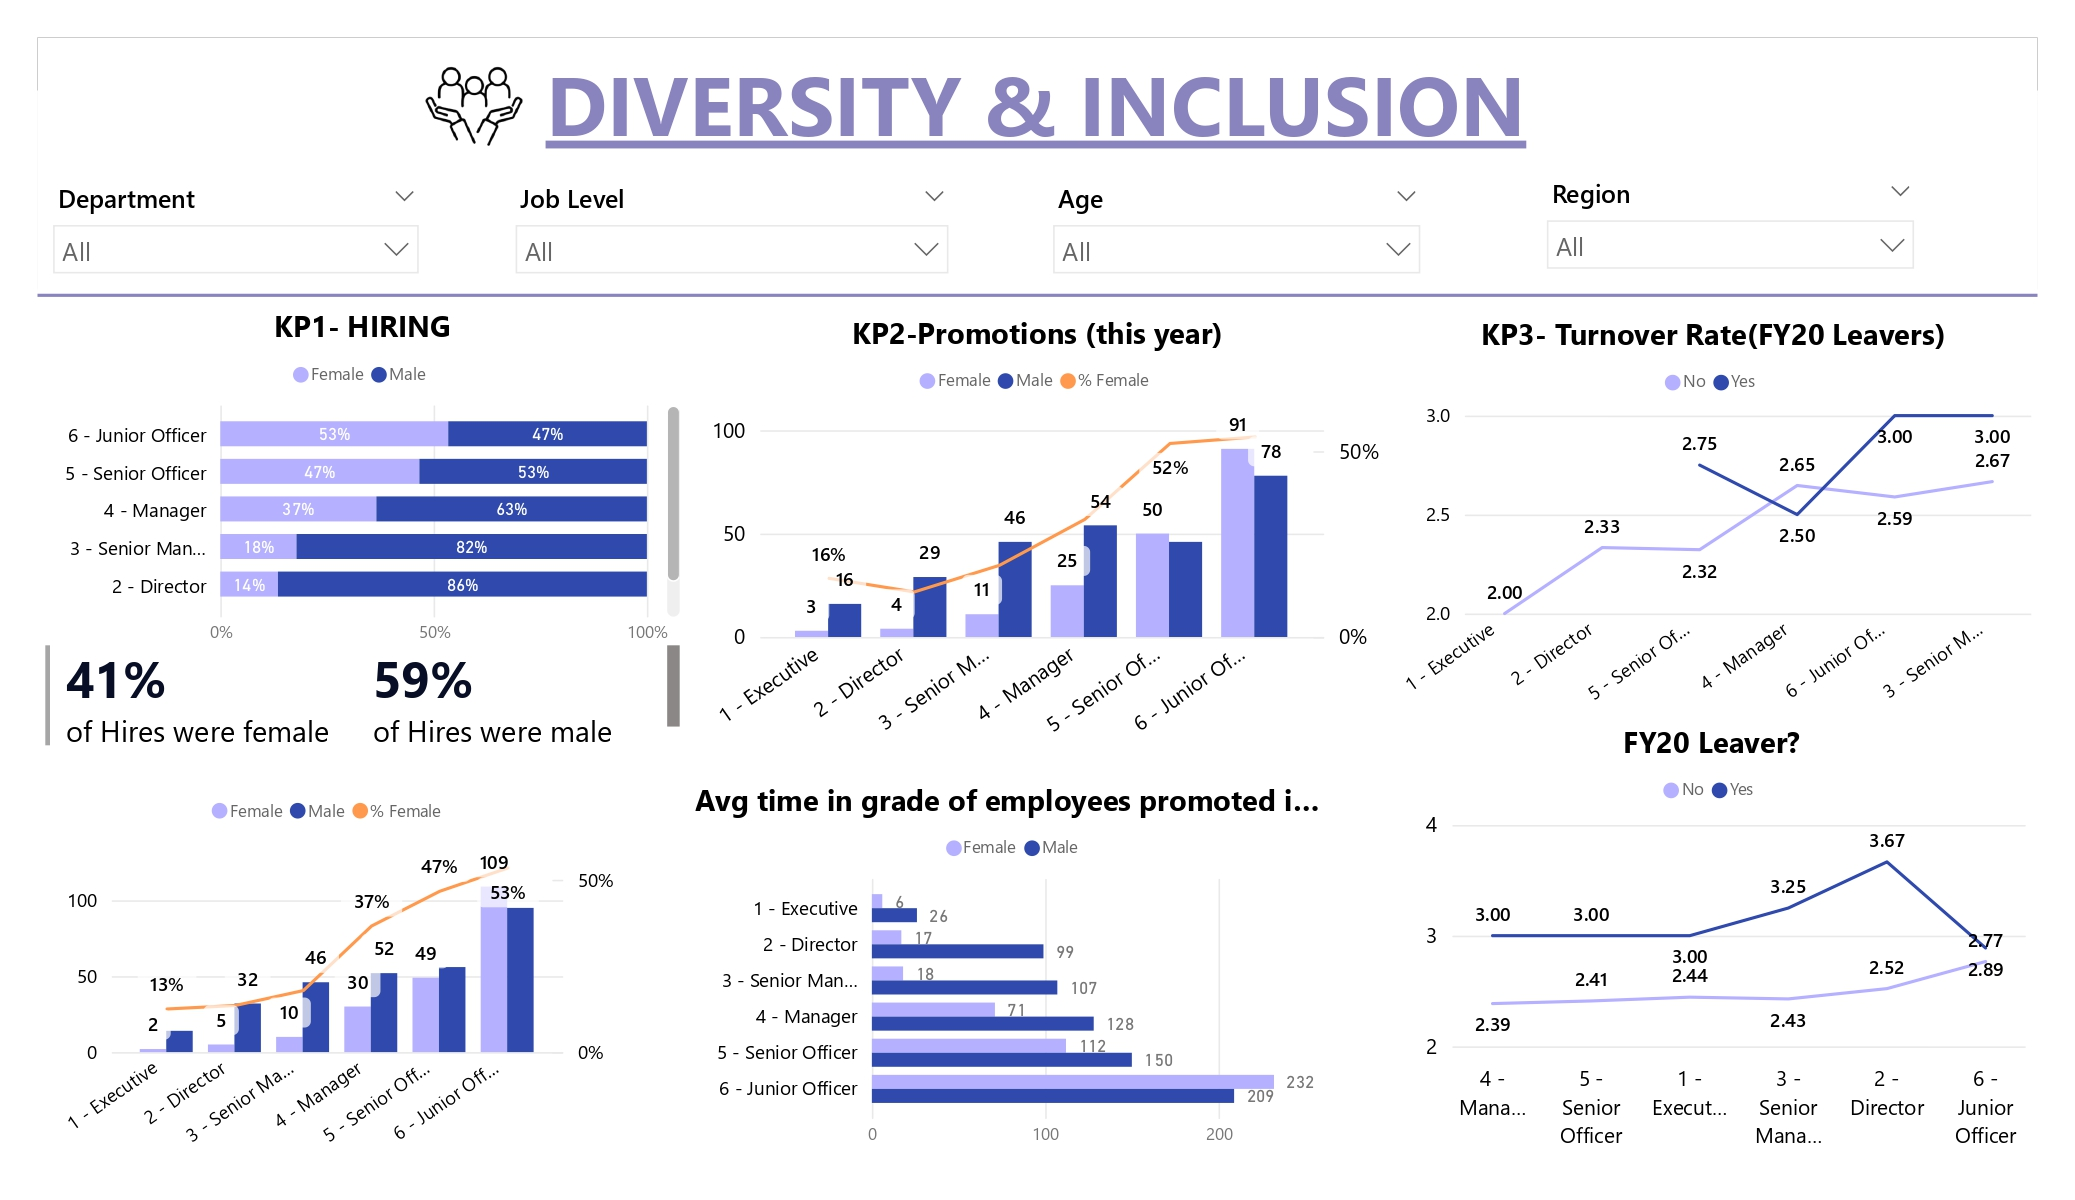

This screenshot's page, from the dashboard's own definition file:
{"tool":"powerbi","page":{"name":"Page 1","canvas":[1280,720],"ordinal":0},"visuals":[{"type":"slicer","fields":{"Values":["Pharma Group AG.Last Department in FY20"]},"box":[0,87.5,254.5,77.5],"z":0},{"type":"slicer","fields":{"Values":["Pharma Group AG.Job Level after FY20 promotions"]},"box":[296.3,87.5,296.3,83.5],"z":1000},{"type":"slicer","fields":{"Values":["Pharma Group AG.Age group"]},"box":[640.2,87.5,254.5,67.6],"z":2000},{"type":"slicer","fields":{"Values":["Pharma Group AG.Broad region group: nationality 1"]},"box":[956.4,83.5,254.5,73.6],"z":3000},{"type":"hundredPercentStackedBarChart","title":"KP1- HIRING","fields":{"Category":["Pharma Group AG.Job Level after FY20 promotions"],"Series":["Pharma Group AG.Gender"],"Y":["CountNonNull(Pharma Group AG.Employee ID)"]},"box":[0,172,416,226],"z":4000},{"type":"lineClusteredColumnComboChart","fields":{"Category":["Pharma Group AG.Job Level after FY20 promotions"],"Y":["CountNonNull(Pharma Group AG.Employee ID)"],"Y2":["Pharma Group AG.% Female"],"Series":["Pharma Group AG.Gender"]},"box":[0,476,374,244],"z":5000},{"type":"lineClusteredColumnComboChart","title":"KP2-Promotions (this year)","fields":{"Y":["CountNonNull(Pharma Group AG.Employee ID)"],"Y2":["Pharma Group AG.% Female"],"Series":["Pharma Group AG.Gender"],"Category":["Pharma Group AG.Job Level after FY21 promotions"]},"box":[415.7,175.7,448.6,282.9],"z":6000},{"type":"clusteredBarChart","title":"Avg time in grade of employees promoted in FY21 in yrs","fields":{"Category":["Pharma Group AG.Job Level after FY20 promotions"],"Y":["Sum(Pharma Group AG.Time in Job Level @01.07.2020)"],"Series":["Pharma Group AG.Gender"]},"box":[416.4,475,418.3,244.1],"z":7000},{"type":"lineChart","title":"KP3- Turnover Rate(FY20 Leavers)","fields":{"Category":["Pharma Group AG.Job Level after FY20 promotions"],"Y":["Avg(Pharma Group AG.FY19 Performance Rating)"],"Series":["Pharma Group AG.FY20 leaver?"]},"box":[863.8,176.6,417,261.7],"z":8000},{"type":"lineChart","title":"FY20 Leaver?","fields":{"Category":["Pharma Group AG.Job Level after FY20 promotions"],"Y":["Avg(Pharma Group AG.FY19 Performance Rating)"],"Series":["Pharma Group AG.FY20 leaver?"]},"box":[861.7,438.3,419.1,280.9],"z":9000},{"type":"multiRowCard","fields":{"Values":["Pharma Group AG.% Female","Pharma Group AG.% Male"]},"box":[0,384,416,74],"z":10000},{"type":"textbox","box":[278.4,0,721.7,87.5],"z":11000},{"type":"shape","box":[0,154,1280,22],"z":12000},{"type":"image","box":[222,6,114,76],"z":13000}]}

Visuals, with their boxes in screenshot pixels (x1, y1, x2, y2):
slicer - Pharma Group AG.Last Department in FY20: (38, 174, 435, 295)
slicer - Pharma Group AG.Job Level after FY20 promotions: (500, 174, 963, 305)
slicer - Pharma Group AG.Age group: (1038, 174, 1435, 280)
slicer - Pharma Group AG.Broad region group: nationality 1: (1532, 168, 1930, 283)
"KP1- HIRING" hundredPercentStackedBarChart: (38, 306, 688, 659)
lineClusteredColumnComboChart - Pharma Group AG.Job Level after FY20 promotions x CountNonNull(Pharma Group AG.Employee ID): (38, 781, 622, 1162)
"KP2-Promotions (this year)" lineClusteredColumnComboChart: (687, 312, 1388, 754)
"Avg time in grade of employees promoted in FY21 in yrs" clusteredBarChart: (688, 780, 1342, 1161)
"KP3- Turnover Rate(FY20 Leavers)" lineChart: (1387, 313, 2038, 722)
"FY20 Leaver?" lineChart: (1384, 722, 2038, 1161)
multiRowCard - Pharma Group AG.% Female x Pharma Group AG.% Male: (38, 638, 688, 753)
textbox: (472, 38, 1600, 174)
shape: (38, 278, 2038, 312)
image: (384, 47, 562, 166)
